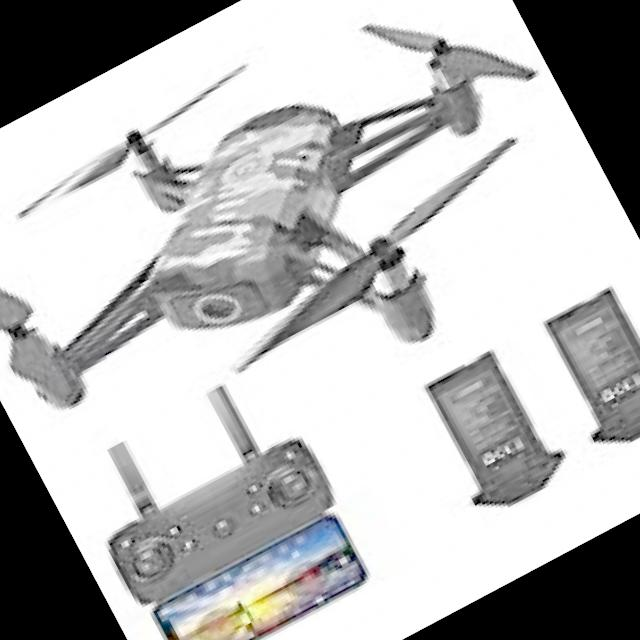drone: (0, 0, 635, 531)
